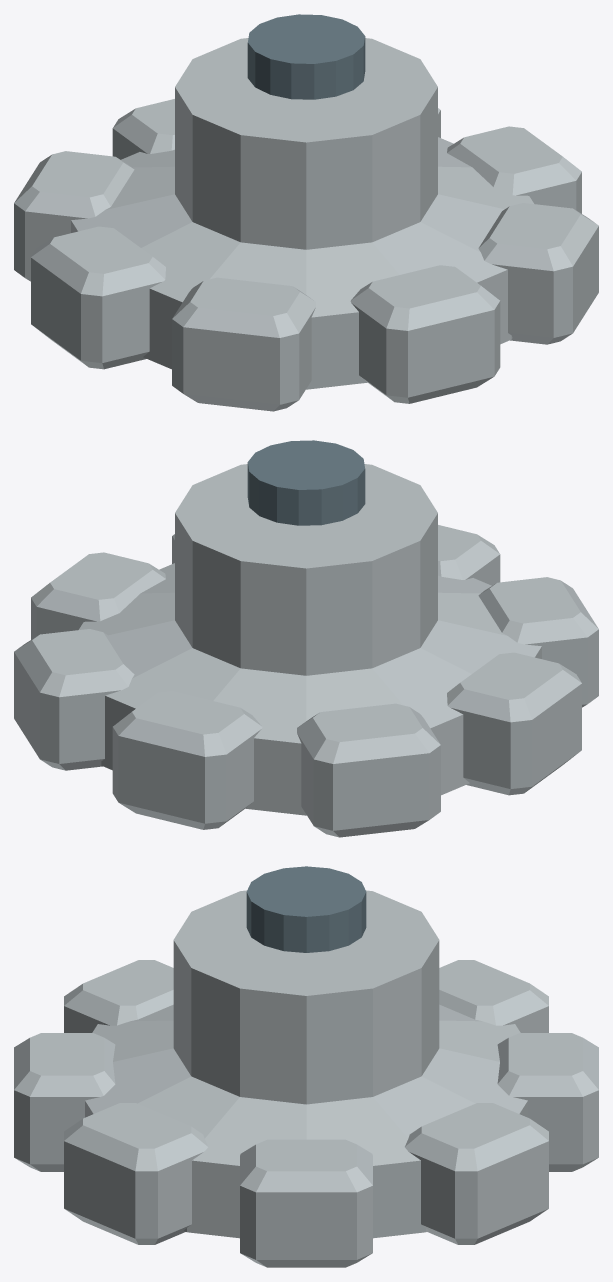
The model's file is parts.glb.
3 views of the same model, one above another, from view 1: azimuth 30°, elevation 25°; view 2: azimuth 150°, elevation 25°; view 3: azimuth 270°, elevation 25° (orthographic).
Parts seen in each view (by area): view 1: parts; view 2: parts; view 3: parts.
Part boxes in pixels (x1,y1,x2,y2): parts: (14,14,598,411); parts: (14,440,598,837); parts: (14,866,598,1267).
Bounding box in the file's own units: 0.44 × 0.215 × 0.44.
